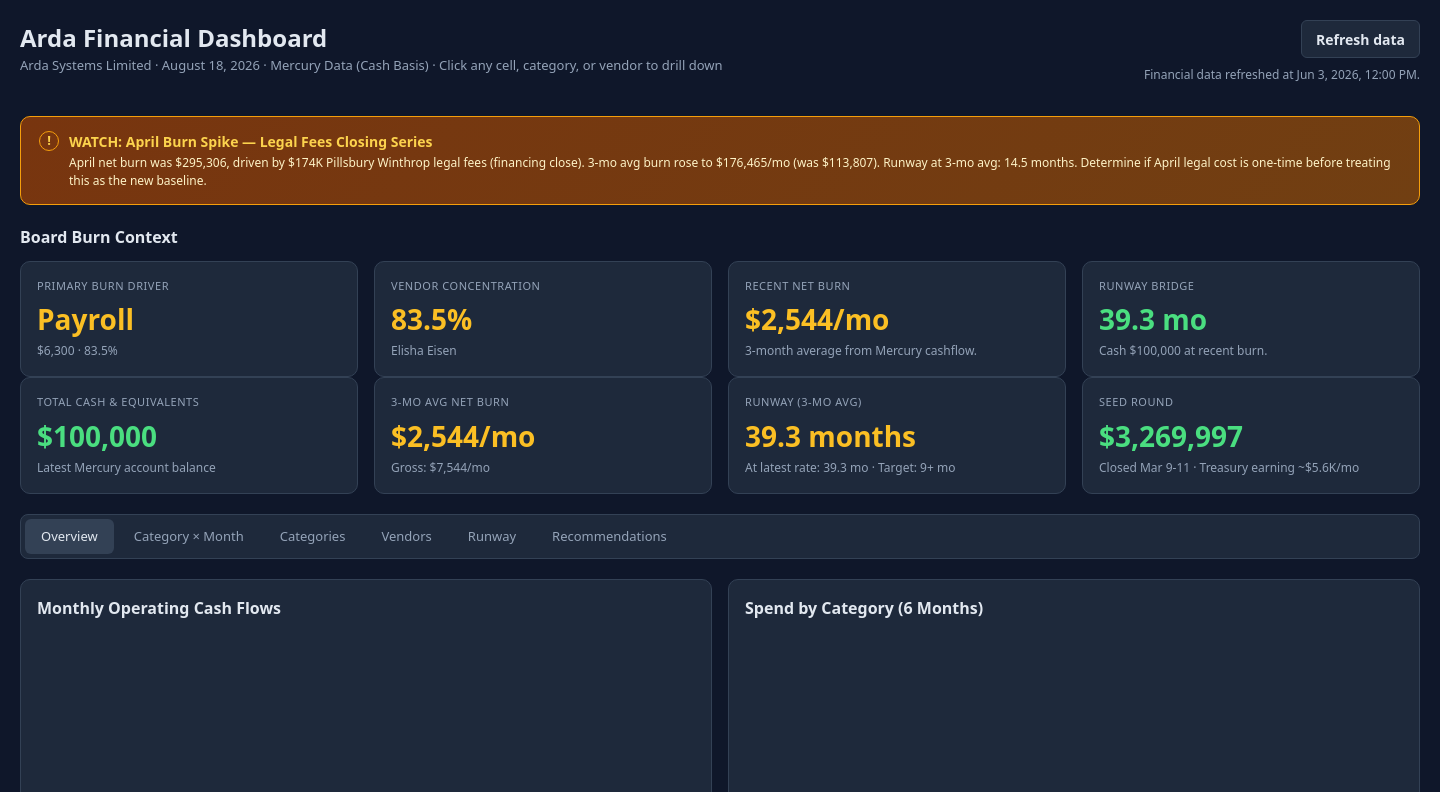
Scenario: ExpenseDashboard › renders provider-shaped numeric envelopes without losing currency values
Expected: the text "$100,000" is shown, [37,416,157,454]
Click the button "Categories": (313, 536) [264,518,361,554]
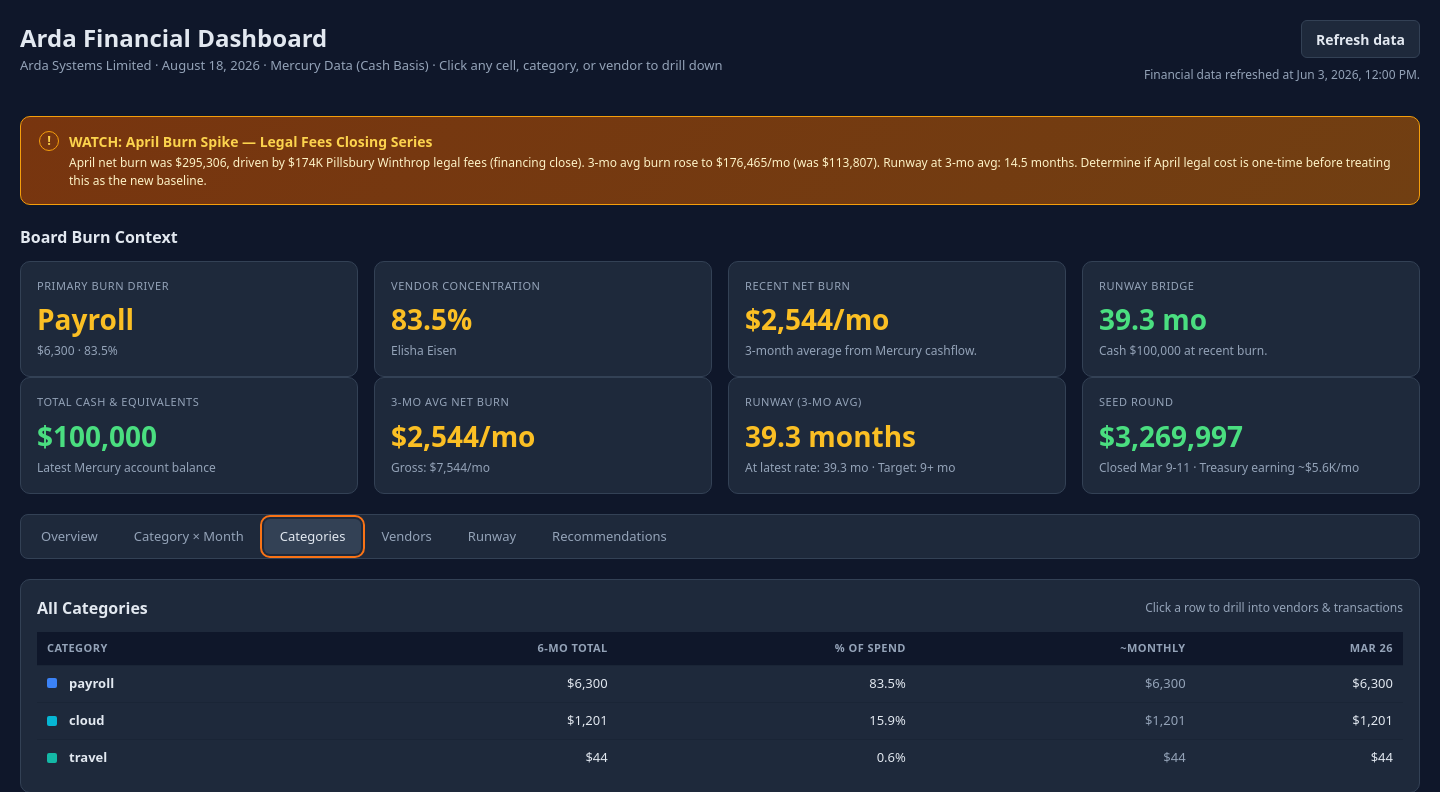
Expected: the 1st text "$1,201" is shown, [322,702,618,740]
Click the button "Vendors": (407, 536) [365,518,448,554]
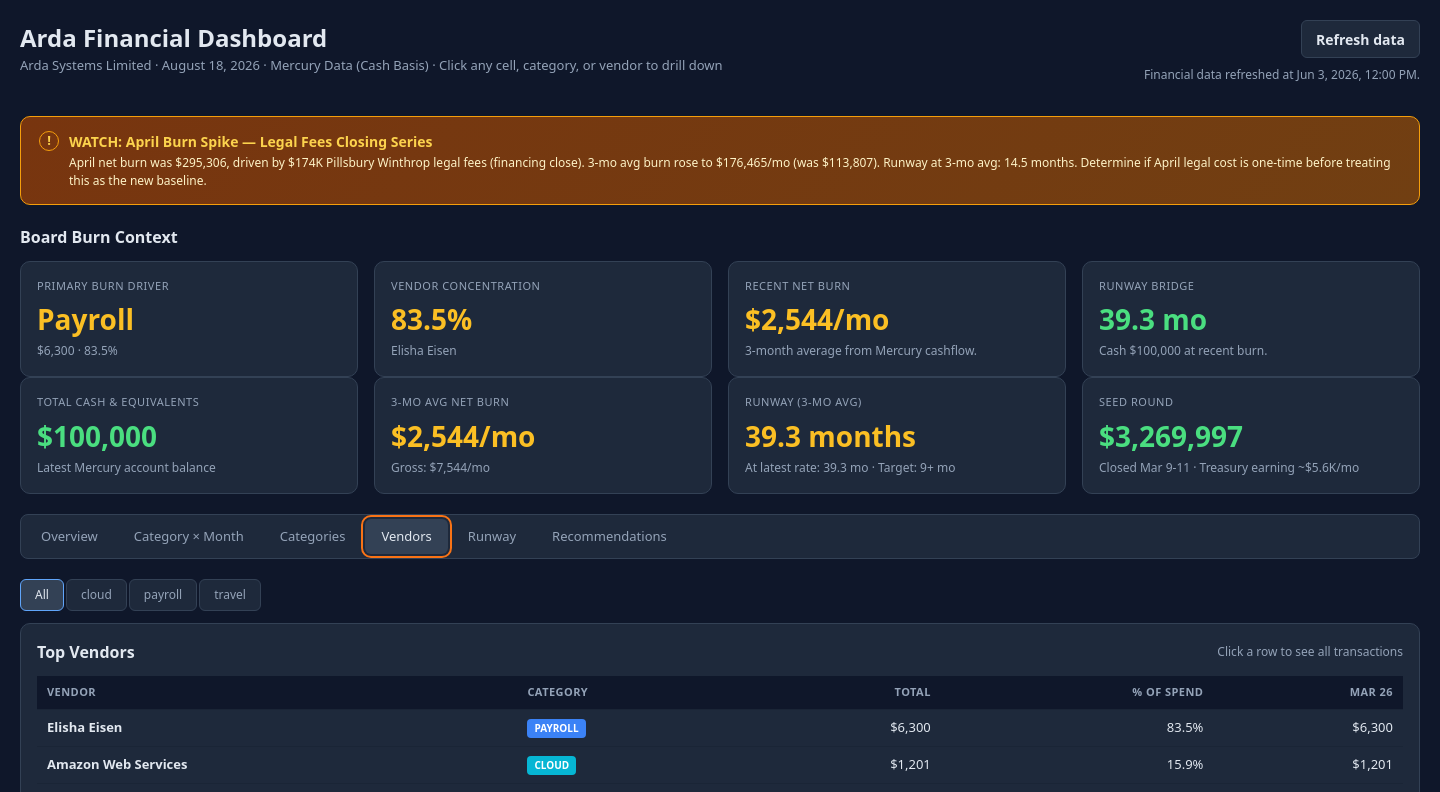
Click the button "Amazon Web Services": (117, 765) [47,755,188,774]
(page scrolled)
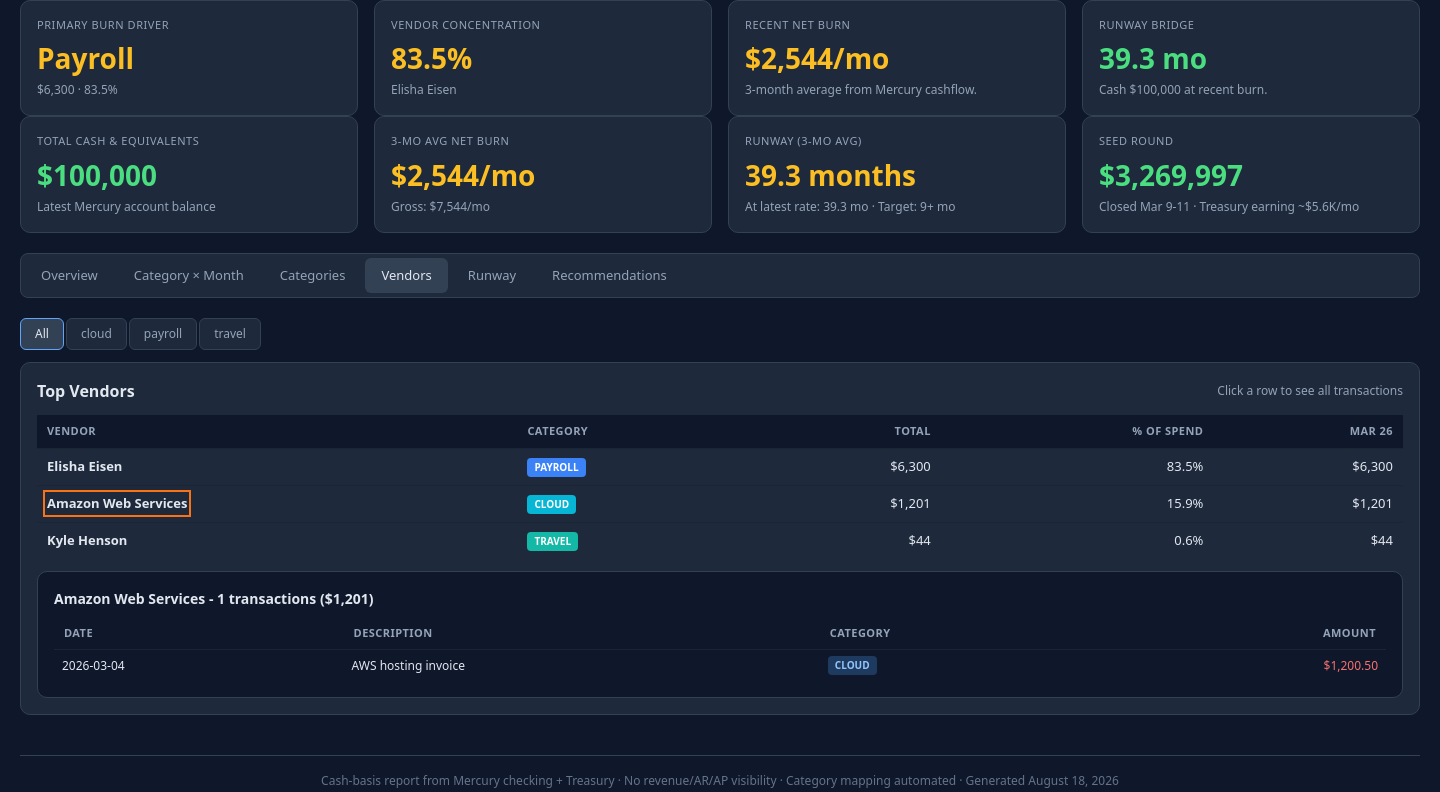
Expected: the text "Amazon Web Services - 1 transactions ($1,201)" is shown, [54,588,373,608]
Expected: the text "$1,200.50" is shown, [1117,650,1386,681]
